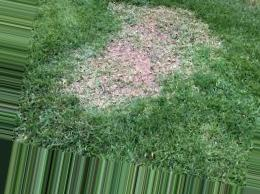patch: (113, 48, 152, 79), (138, 22, 174, 45), (76, 79, 112, 101), (186, 28, 199, 44), (122, 32, 138, 44)
